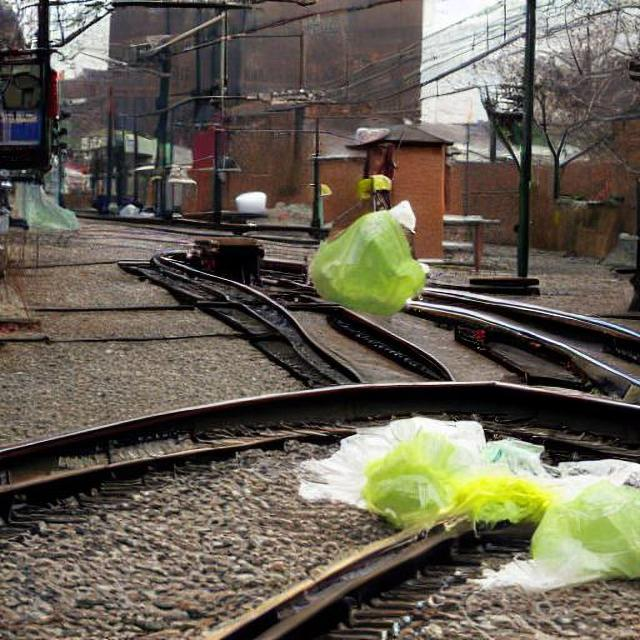floating object: (11, 177, 79, 231)
plastic bag: (316, 387, 636, 605), (302, 181, 440, 324)
